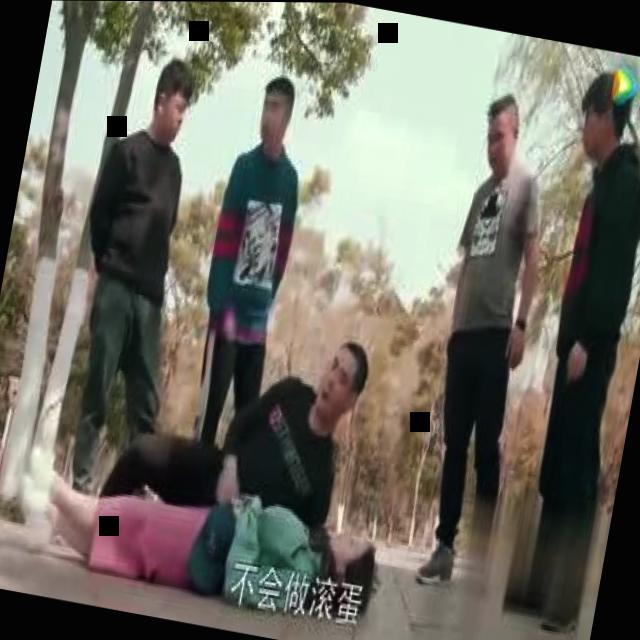Fall-Detected: (18, 430, 388, 627)
